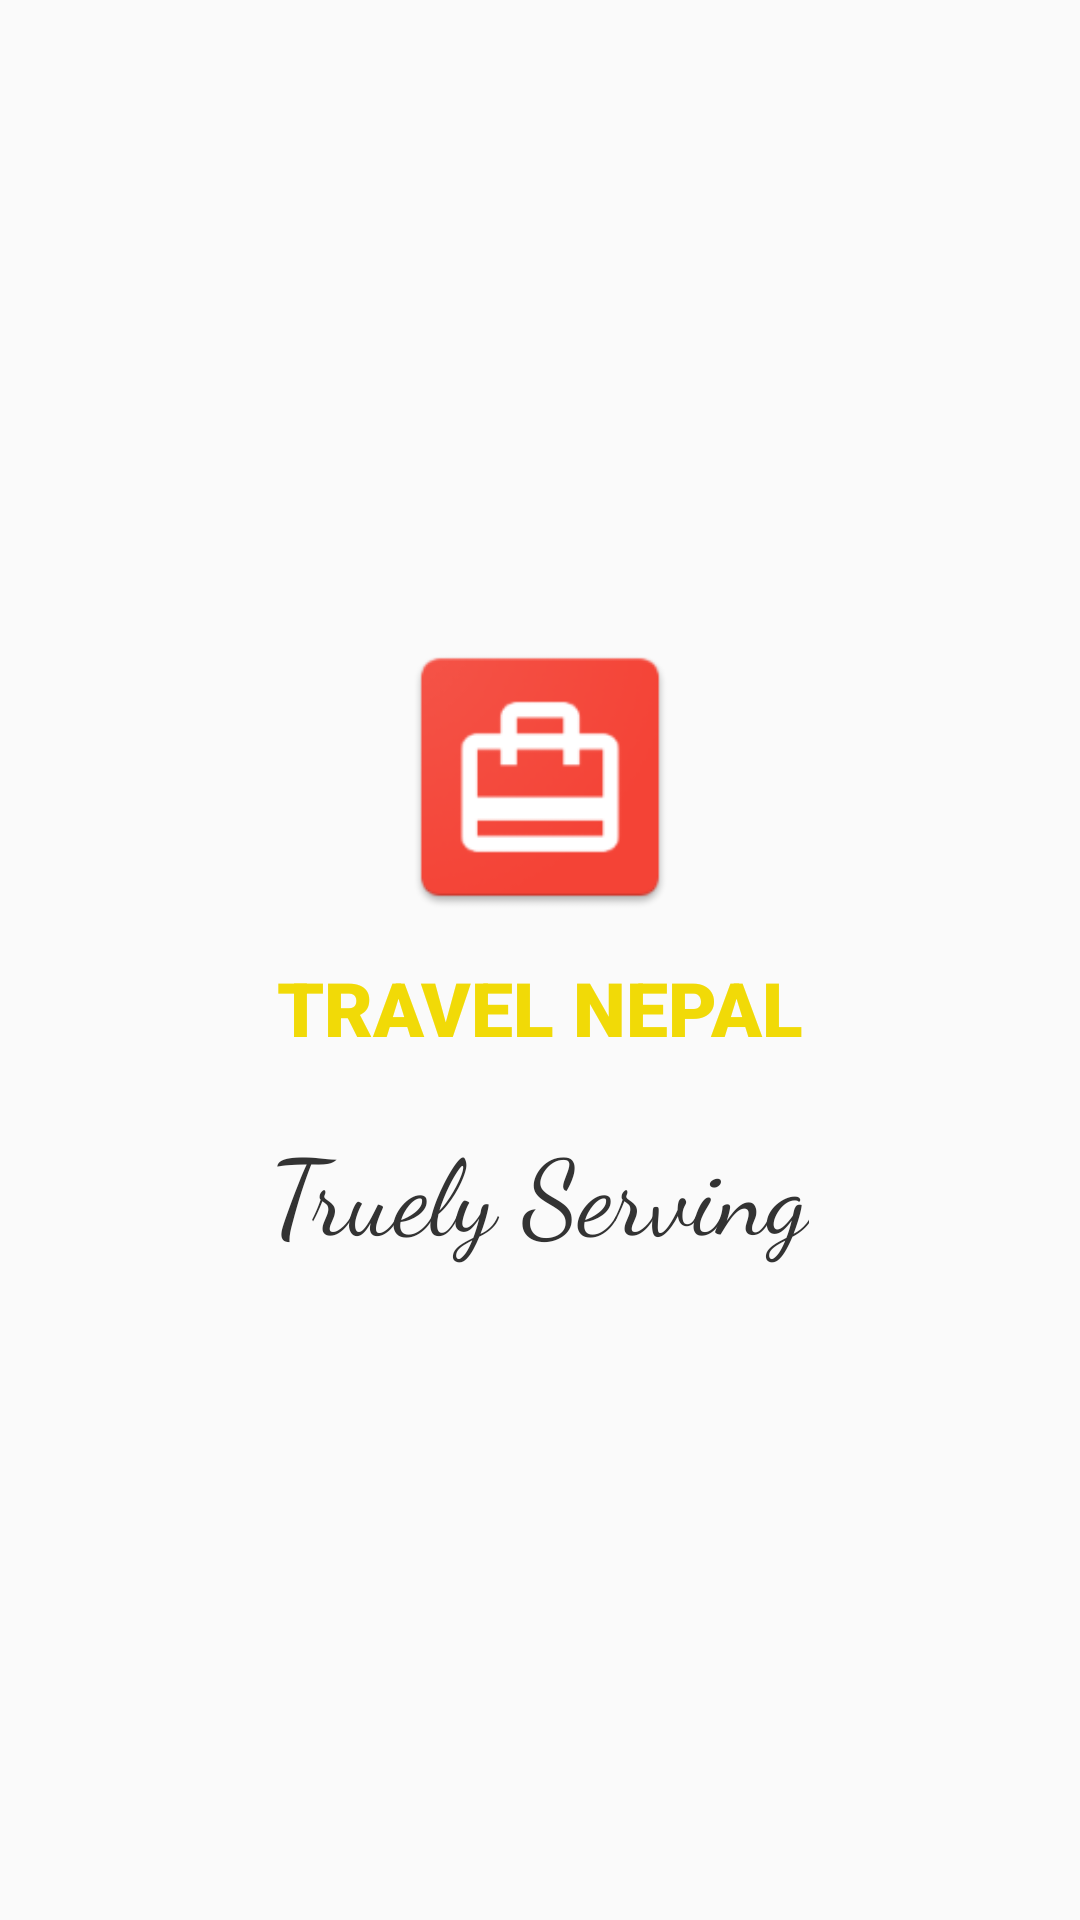

Screen size 1080w x 1920h. Icon name, then its center in pixels as (x=x, y=y):
app: (x=540, y=779)
